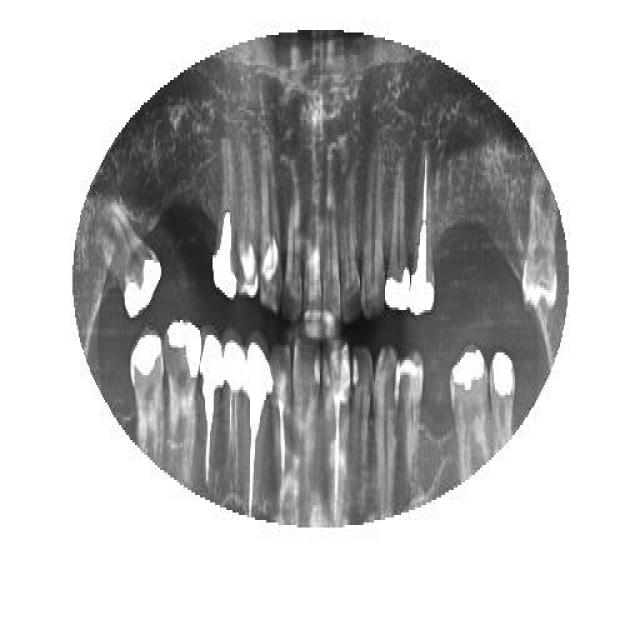Fillings: (102, 200, 162, 318), (165, 322, 201, 482), (450, 348, 492, 480), (130, 330, 165, 462), (212, 142, 238, 300), (384, 165, 410, 313), (489, 350, 516, 455)
Implant: (245, 340, 271, 518), (410, 148, 436, 318), (201, 335, 225, 493), (224, 333, 246, 485)
